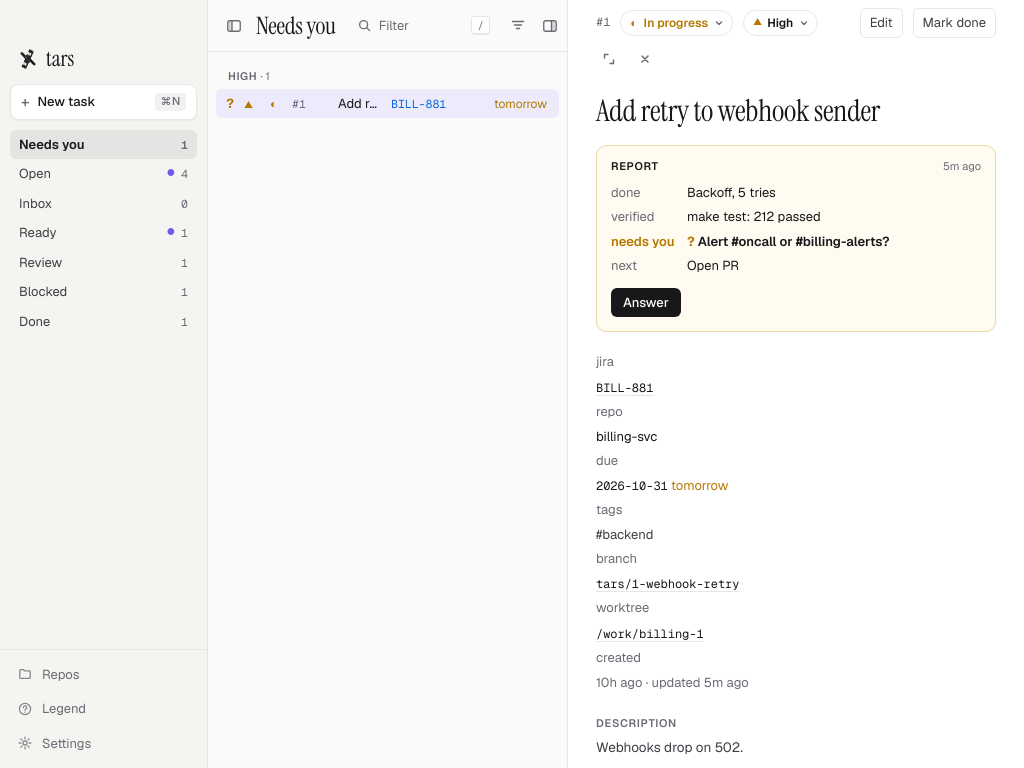
Test case: panes and zoom › opens the preview with a single click and toggles panes from header buttons
Expected: the navigation bar named "Views" is shown, [0,0,208,767]
Click the button named "Hide preview" at coordinates (549, 26), box [536,12,562,38]
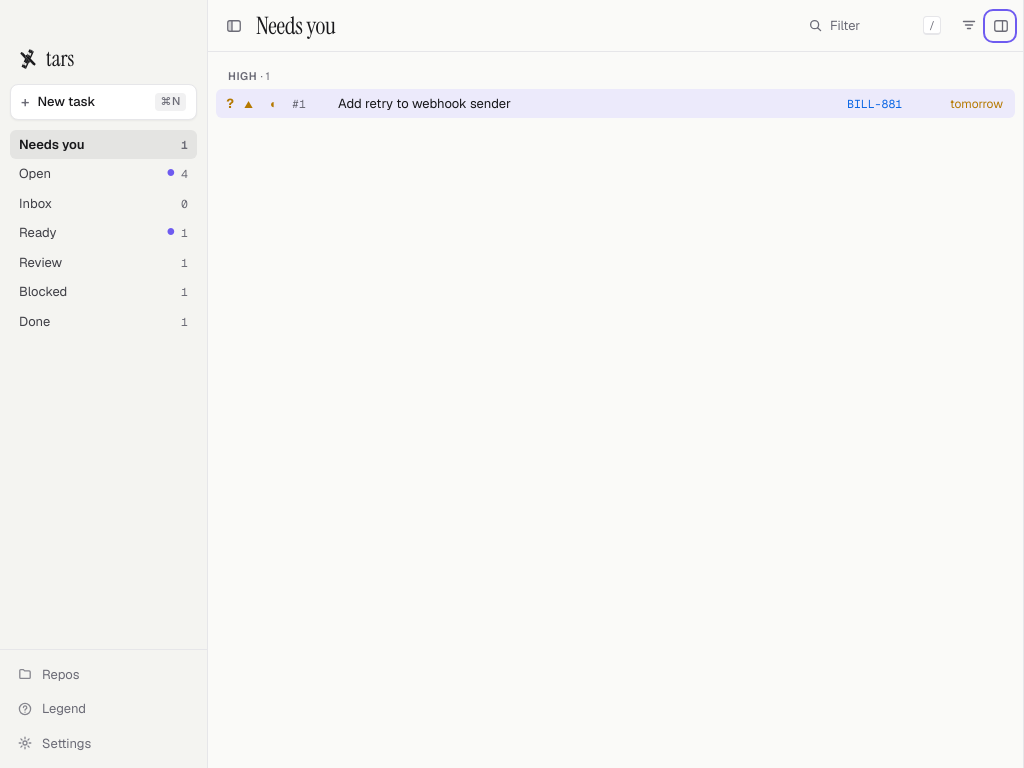
Click the option with test id "row-1" at coordinates (424, 103), box [216,88,1015,118]
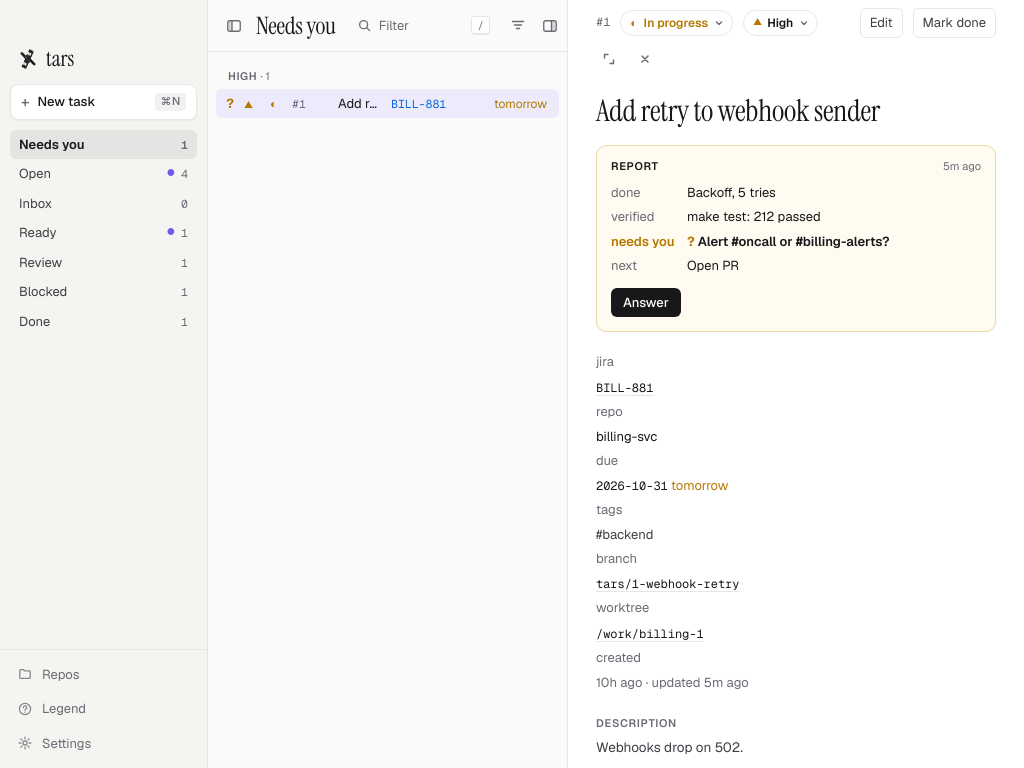
Now the element named "Task details" is shown, box [568,0,1023,767]
Click the button named "Hide sidebar" at coordinates (233, 26), box [220,12,246,38]
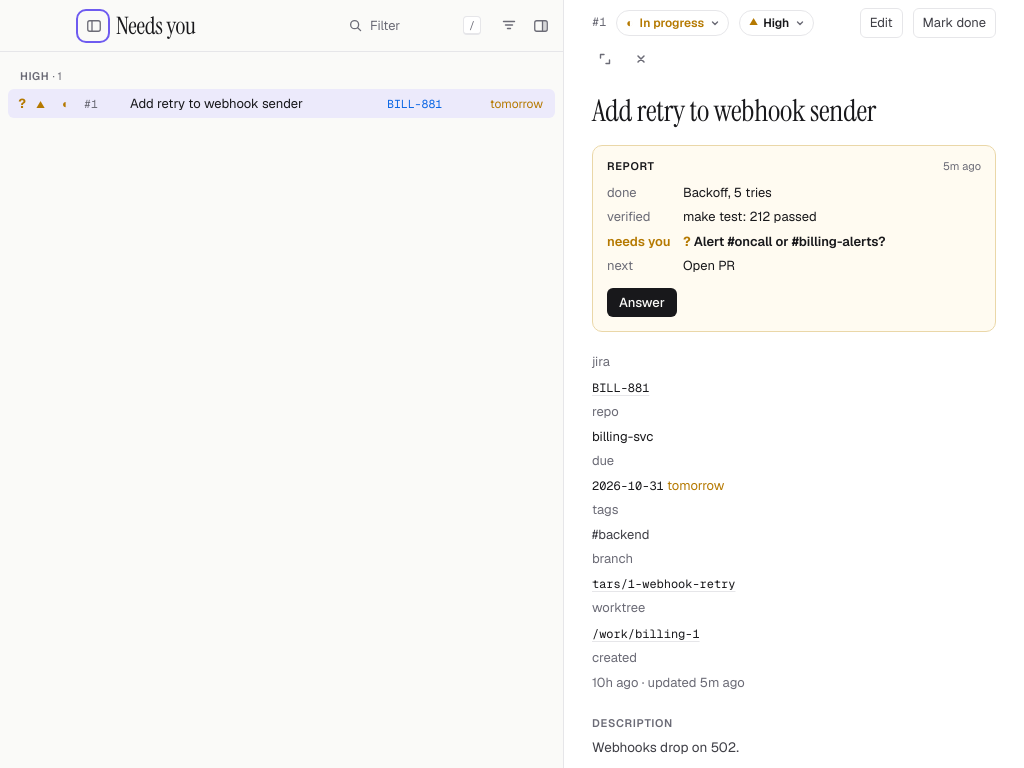
Now the list "Views" is gone
Click the button named "Show sidebar" at coordinates (93, 26), box [80,12,106,38]
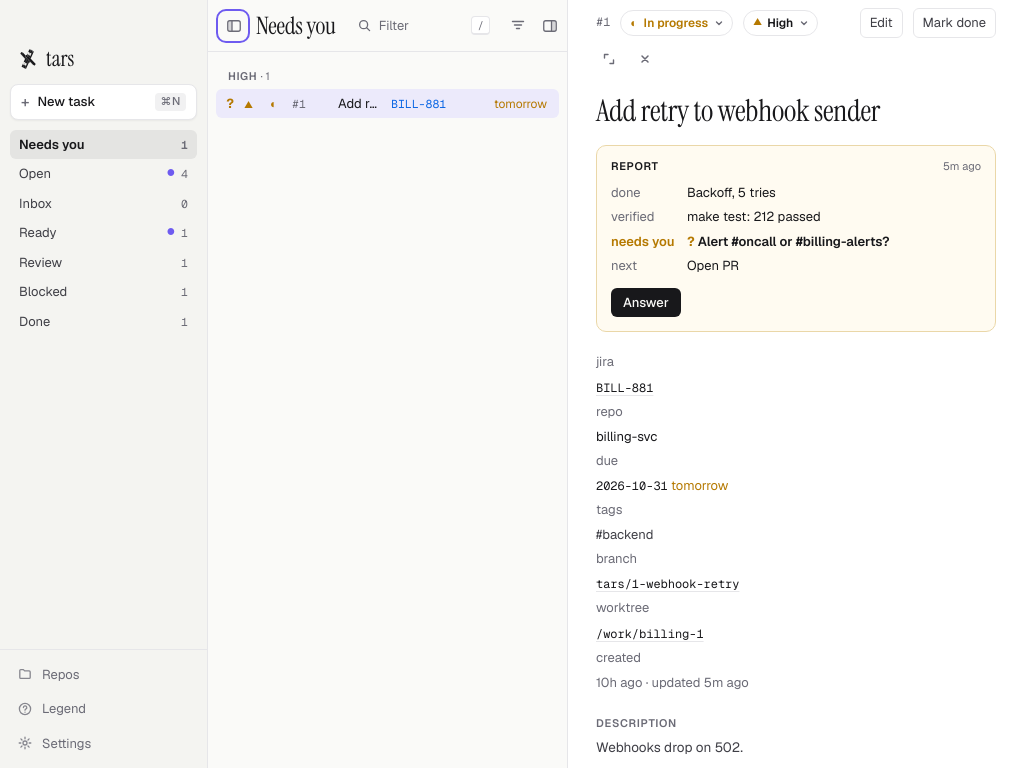
Now the navigation bar named "Views" is shown, box [0,0,208,767]
